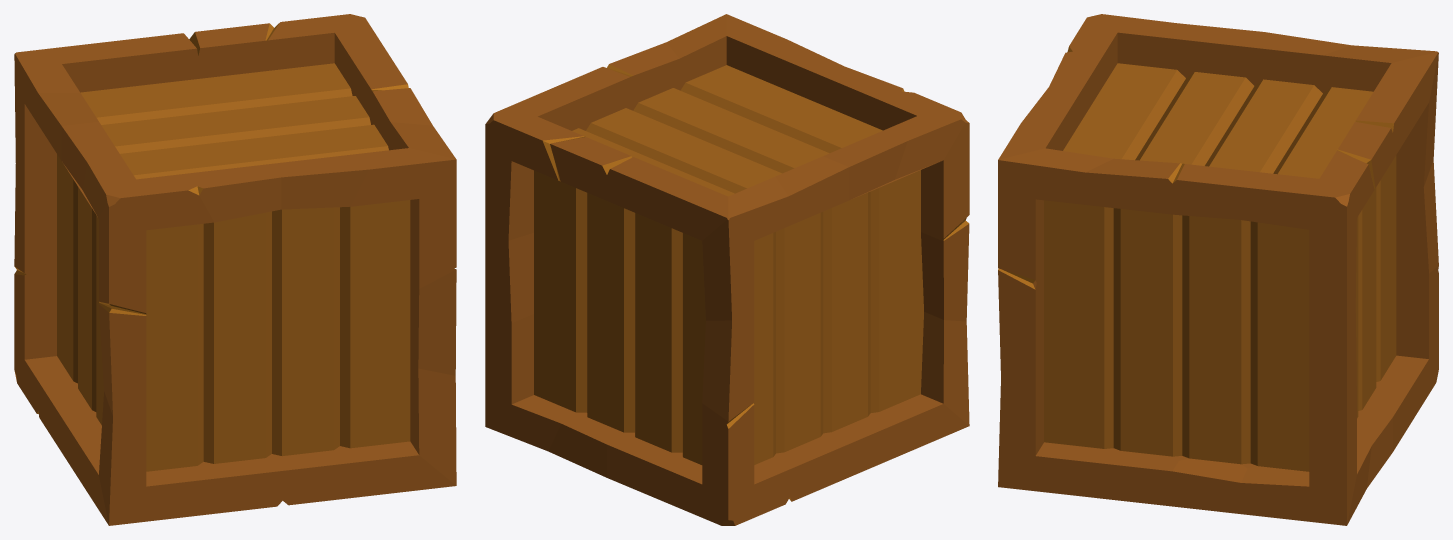
3 renders of one model, left to right at view 1: azimuth 30°, elevation 25°; view 2: azimuth 150°, elevation 25°; view 3: azimuth 270°, elevation 25°, orthographic. The views are drawn at different scales.
Parts seen in each view (by area): view 1: Crate.008; view 2: Crate.008; view 3: Crate.008.
Boxes of the visible parts, x1,y1,x2,y2 form: Crate.008: (14,14,456,525); Crate.008: (485,14,969,525); Crate.008: (998,14,1438,525).
Bounding box in the file's own units: 1.89 × 1.55 × 1.89.
